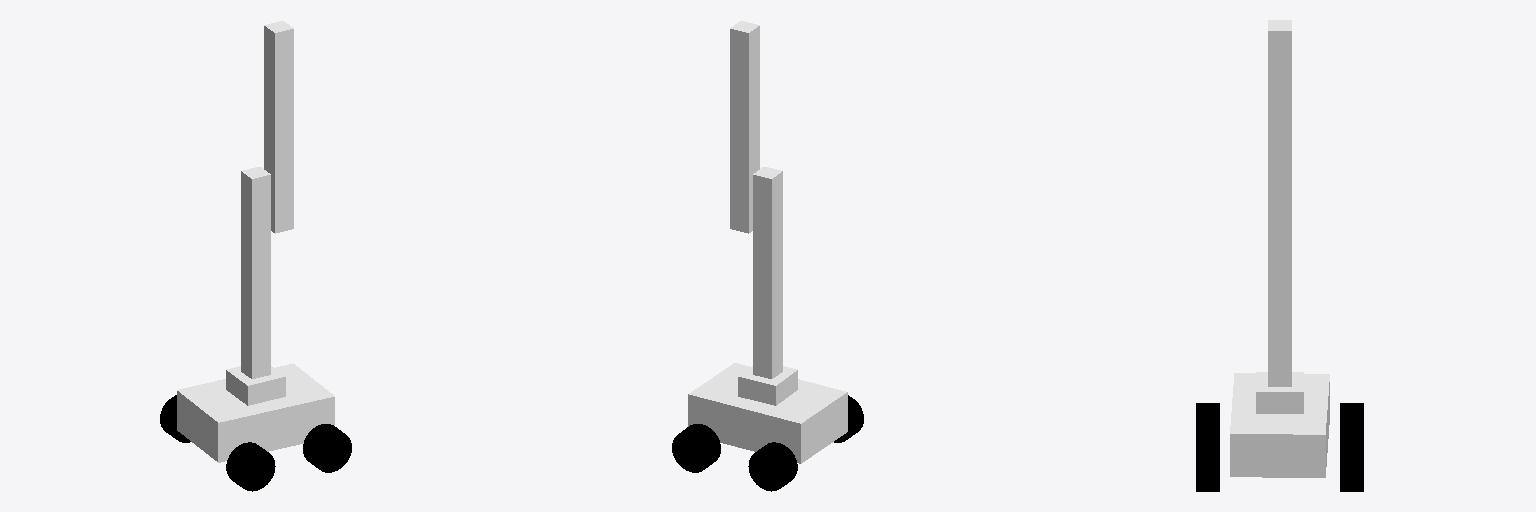
URDF robot description (robot1_xacro):
<?xml version="1.0" ?>
<!-- =================================================================================== -->
<!-- |    This document was autogenerated by xacro from mybot.xacro                    | -->
<!-- |    EDITING THIS FILE BY HAND IS NOT RECOMMENDED                                 | -->
<!-- =================================================================================== -->
<robot name="robot1_xacro" xmlns:controller="http://playerstage.sourceforge.net/gazebo/xmlschema/#controller" xmlns:interface="http://playerstage.sourceforge.net/gazebo/xmlschema/#interface" xmlns:sensor="http://playerstage.sourceforge.net/gazebo/xmlschema/#sensor" xmlns:xacro="http://www.ros.org/wiki/xacro">
  <link name="base_link">
    <visual>
      <geometry>
        <box size="0.2 .3 .1"/>
      </geometry>
      <origin rpy="0 0 1.54" xyz="0 0 0.05"/>
      <material name="white">
        <color rgba="1 1 1 1"/>
      </material>
    </visual>
    <collision>
      <geometry>
        <box size="0.2 .3 0.1"/>
      </geometry>
    </collision>
    <inertial>
      <mass value="10"/>
      <inertia ixx="1.0" ixy="0.0" ixz="0.0" iyy="1.0" iyz="0.0" izz="1.0"/>
    </inertial>
  </link>
  <link name="wheel_1">
    <visual>
      <geometry>
        <cylinder length="0.05" radius="0.05"/>
      </geometry>
      <!-- <origin rpy="0 1.5 0" xyz="0.1 0.1 0"/> -->
      <origin rpy="0 0 0" xyz="0 0 0"/>
      <material name="black">
        <color rgba="0 0 0 1"/>
      </material>
    </visual>
    <collision>
      <geometry>
        <cylinder length="0.05" radius="0.05"/>
      </geometry>
    </collision>
    <inertial>
      <mass value="1"/>
      <inertia ixx="1.0" ixy="0.0" ixz="0.0" iyy="1.0" iyz="0.0" izz="1.0"/>
    </inertial>
  </link>
  <link name="wheel_2">
    <visual>
      <geometry>
        <cylinder length="0.05" radius="0.05"/>
      </geometry>
      <!-- <origin rpy="0 1.5 0" xyz="-0.1 0.1 0"/> -->
      <origin rpy="0 0 0" xyz="0 0 0"/>
      <material name="black"/>
    </visual>
    <collision>
      <geometry>
        <cylinder length="0.05" radius="0.05"/>
      </geometry>
    </collision>
    <inertial>
      <mass value="1"/>
      <inertia ixx="1.0" ixy="0.0" ixz="0.0" iyy="1.0" iyz="0.0" izz="1.0"/>
    </inertial>
  </link>
  <link name="wheel_3">
    <visual>
      <geometry>
        <cylinder length="0.05" radius="0.05"/>
      </geometry>
      <!-- <origin rpy="0 1.5 0" xyz="0.1 -0.1 0"/> -->
      <origin rpy="0 0 0" xyz="0 0 0"/>
      <material name="black"/>
    </visual>
    <collision>
      <geometry>
        <cylinder length="0.05" radius="0.05"/>
      </geometry>
    </collision>
    <inertial>
      <mass value="1"/>
      <inertia ixx="1.0" ixy="0.0" ixz="0.0" iyy="1.0" iyz="0.0" izz="1.0"/>
    </inertial>
  </link>
  <link name="wheel_4">
    <visual>
      <geometry>
        <cylinder length="0.05" radius="0.05"/>
      </geometry>
      <!--	<origin rpy="0 1.5 0" xyz="-0.1 -0.1 0"/> -->
      <origin rpy="0 0 0" xyz="0 0 0"/>
      <material name="black"/>
    </visual>
    <collision>
      <geometry>
        <cylinder length="0.05" radius="0.05"/>
      </geometry>
    </collision>
    <inertial>
      <mass value="1"/>
      <inertia ixx="1.0" ixy="0.0" ixz="0.0" iyy="1.0" iyz="0.0" izz="1.0"/>
    </inertial>
  </link>
  <joint name="base_to_wheel1" type="continuous">
    <parent link="base_link"/>
    <child link="wheel_1"/>
    <origin rpy="1.5707 0 0" xyz="0.1 0.15 0"/>
    <axis xyz="0 0 1"/>
  </joint>
  <joint name="base_to_wheel2" type="continuous">
    <axis xyz="0 0 1"/>
    <anchor xyz="0 0 0"/>
    <limit effort="100" velocity="100"/>
    <parent link="base_link"/>
    <child link="wheel_2"/>
    <origin rpy="1.5707 0 0" xyz="-0.1 0.15 0"/>
  </joint>
  <joint name="base_to_wheel3" type="continuous">
    <parent link="base_link"/>
    <axis xyz="0 0 1"/>
    <child link="wheel_3"/>
    <origin rpy="1.5707 0 0" xyz="0.1 -0.15 0"/>
  </joint>
  <joint name="base_to_wheel4" type="continuous">
    <parent link="base_link"/>
    <axis xyz="0 0 1"/>
    <child link="wheel_4"/>
    <origin rpy="1.5707 0 0" xyz="-0.1 -0.15 0"/>
  </joint>
  <!-- arm -->
  <link name="arm_base">
    <visual>
      <geometry>
        <box size="0.1 .1 .1"/>
      </geometry>
      <origin rpy="0 0 0" xyz="0 0 0.1"/>
      <material name="white">
        <color rgba="1 1 1 1"/>
      </material>
    </visual>
    <collision>
      <geometry>
        <box size="0.1 .1 .1"/>
      </geometry>
    </collision>
    <inertial>
      <mass value="1"/>
      <inertia ixx="1.0" ixy="0.0" ixz="0.0" iyy="1.0" iyz="0.0" izz="1.0"/>
    </inertial>
  </link>
  <joint name="base_to_arm_base" type="continuous">
    <parent link="base_link"/>
    <child link="arm_base"/>
    <axis xyz="0 0 1"/>
    <origin xyz="0 0 0"/>
  </joint>
  <link name="arm_1">
    <visual>
      <geometry>
        <box size="0.05 .05 0.5"/>
      </geometry>
      <origin rpy="0 0 0" xyz="0 0 0.25"/>
      <material name="white">
        <color rgba="1 1 1 1"/>
      </material>
    </visual>
    <collision>
      <geometry>
        <box size="0.05 .05 0.5"/>
      </geometry>
    </collision>
    <inertial>
      <mass value="1"/>
      <inertia ixx="1.0" ixy="0.0" ixz="0.0" iyy="1.0" iyz="0.0" izz="1.0"/>
    </inertial>
  </link>
  <joint name="arm_1_to_arm_base" type="revolute">
    <parent link="arm_base"/>
    <child link="arm_1"/>
    <axis xyz="1 0 0"/>
    <origin xyz="0 0 0.15"/>
    <limit effort="1000.0" lower="-1.0" upper="1.0" velocity="0.5"/>
  </joint>
  <link name="arm_2">
    <visual>
      <geometry>
        <box size="0.05 0.05 0.5"/>
      </geometry>
      <origin rpy="0 0 0" xyz="0.06 0 0.15"/>
      <material name="white">
        <color rgba="1 1 1 1"/>
      </material>
    </visual>
    <collision>
      <geometry>
        <box size="0.05 .05 0.5"/>
      </geometry>
    </collision>
    <inertial>
      <mass value="1"/>
      <inertia ixx="1.0" ixy="0.0" ixz="0.0" iyy="1.0" iyz="0.0" izz="1.0"/>
    </inertial>
  </link>
  <joint name="arm_2_to_arm_1" type="revolute">
    <parent link="arm_1"/>
    <child link="arm_2"/>
    <axis xyz="1 0 0"/>
    <origin xyz="0.0 0 0.45"/>
    <limit effort="1000.0" lower="-2.5" upper="2.5" velocity="0.5"/>
  </joint>
  <joint name="left_gripper_joint" type="revolute">
    <axis xyz="0 0 1"/>
    <limit effort="1000.0" lower="0.0" upper="0.548" velocity="0.5"/>
    <origin rpy="0 -1.57 0" xyz="0.06 0 0.4"/>
    <parent link="arm_2"/>
    <child link="left_gripper"/>
  </joint>
  <link name="left_gripper">
    <visual>
      <origin rpy="0 0 0" xyz="0 0 0"/>
      <geometry>
        <mesh filename="package://pr2_description/meshes/gripper_v0/l_finger.dae"/>
      </geometry>
    </visual>
    <collision>
      <geometry>
        <box size="0.1 .1 .1"/>
      </geometry>
    </collision>
    <inertial>
      <mass value="1"/>
      <inertia ixx="1.0" ixy="0.0" ixz="0.0" iyy="1.0" iyz="0.0" izz="1.0"/>
    </inertial>
  </link>
  <joint name="left_tip_joint" type="fixed">
    <parent link="left_gripper"/>
    <child link="left_tip"/>
  </joint>
  <link name="left_tip">
    <visual>
      <origin rpy="0.0 0 0" xyz="0.09137 0.00495 0"/>
      <geometry>
        <mesh filename="package://pr2_description/meshes/gripper_v0/l_finger_tip.dae"/>
      </geometry>
    </visual>
    <collision>
      <geometry>
        <box size="0.1 .1 .1"/>
      </geometry>
    </collision>
    <inertial>
      <mass value="1"/>
      <inertia ixx="1.0" ixy="0.0" ixz="0.0" iyy="1.0" iyz="0.0" izz="1.0"/>
    </inertial>
  </link>
  <joint name="right_gripper_joint" type="revolute">
    <axis xyz="0 0 -1"/>
    <limit effort="1000.0" lower="0.0" upper="0.548" velocity="0.5"/>
    <origin rpy="0 -1.57 0" xyz="0.06 0 0.4"/>
    <parent link="arm_2"/>
    <child link="right_gripper"/>
  </joint>
  <link name="right_gripper">
    <visual>
      <origin rpy="-3.1415 0 0" xyz="0 0 0"/>
      <geometry>
        <mesh filename="package://pr2_description/meshes/gripper_v0/l_finger.dae"/>
      </geometry>
    </visual>
    <collision>
      <geometry>
        <box size="0.1 .1 .1"/>
      </geometry>
    </collision>
    <inertial>
      <mass value="1"/>
      <inertia ixx="1.0" ixy="0.0" ixz="0.0" iyy="1.0" iyz="0.0" izz="1.0"/>
    </inertial>
  </link>
  <joint name="right_tip_joint" type="fixed">
    <parent link="right_gripper"/>
    <child link="right_tip"/>
  </joint>
  <link name="right_tip">
    <visual>
      <origin rpy="-3.1415 0 0" xyz="0.09137 0.00495 0"/>
      <geometry>
        <mesh filename="package://pr2_description/meshes/gripper_v0/l_finger_tip.dae"/>
      </geometry>
    </visual>
    <collision>
      <geometry>
        <box size="0.1 .1 .1"/>
      </geometry>
    </collision>
    <inertial>
      <mass value="1"/>
      <inertia ixx="1.0" ixy="0.0" ixz="0.0" iyy="1.0" iyz="0.0" izz="1.0"/>
    </inertial>
  </link>
</robot>

--- Render facts (derived) ---
The picture shows the robot from 3 angles, left to right: view 1: azimuth 30°, elevation 25°; view 2: azimuth 150°, elevation 25°; view 3: azimuth 270°, elevation 25°; orthographic projection.
Model robot1_xacro with 12 links and 11 joints (4 revolute, 5 continuous, 2 fixed), rooted at base_link, posed every joint at zero.
Links seen in each view (by area): view 1: base_link, arm_1, arm_2, wheel_3, wheel_4, arm_base, wheel_2; view 2: base_link, arm_1, arm_2, wheel_1, wheel_2, arm_base, wheel_4; view 3: base_link, arm_2, arm_1, arm_base, wheel_1, wheel_3, wheel_2, wheel_4.
Link boxes in pixels (<box>): base_link: <box>177,363,334,462</box>; arm_1: <box>241,167,270,378</box>; arm_2: <box>264,21,293,233</box>; wheel_3: <box>303,424,351,472</box>; wheel_4: <box>226,442,275,491</box>; arm_base: <box>226,366,285,405</box>; wheel_2: <box>160,395,190,442</box>; base_link: <box>688,363,847,463</box>; arm_1: <box>753,167,782,378</box>; arm_2: <box>730,21,759,233</box>; wheel_1: <box>672,424,720,472</box>; wheel_2: <box>748,442,797,491</box>; arm_base: <box>738,366,797,405</box>; wheel_4: <box>834,395,863,442</box>; base_link: <box>1230,373,1329,477</box>; arm_2: <box>1268,20,1291,247</box>; arm_1: <box>1268,248,1291,386</box>; arm_base: <box>1256,372,1303,413</box>; wheel_1: <box>1340,444,1363,491</box>; wheel_3: <box>1196,444,1219,491</box>; wheel_2: <box>1340,403,1363,443</box>; wheel_4: <box>1196,403,1219,443</box>.
Size in the robot's own frame: 0.306 by 0.35 by 1.05 metres.
0 mesh visuals loaded from 2 distinct referenced files (none loaded); not drawn: 4 (reference not matched to a file when rendering).